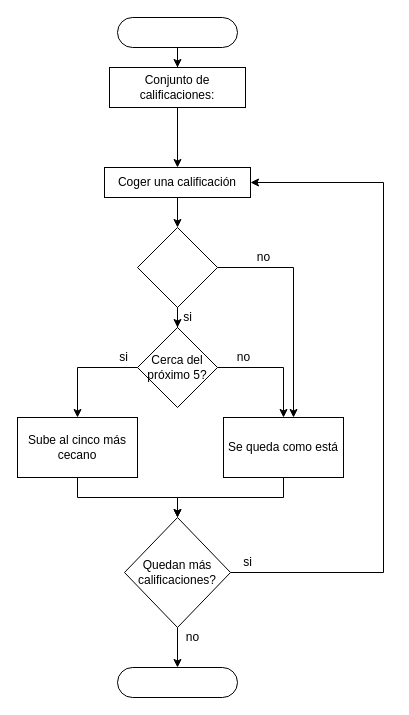
Image size: 409x715. Some labels were removed from this diagram. Here are the shapes that lost their labels. From the top down, the centre of each, then its label:
At point 177,32: "START".
At point 177,267: "Está aprobada?".
At point 177,682: "STOP".
